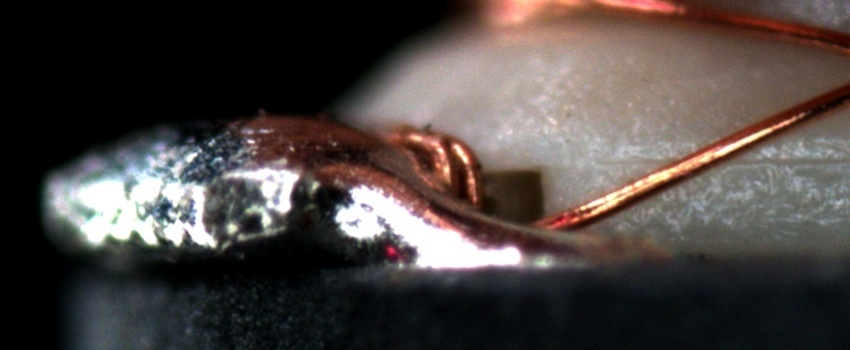DL: (592, 131, 849, 195)
TE: (375, 120, 487, 205)
